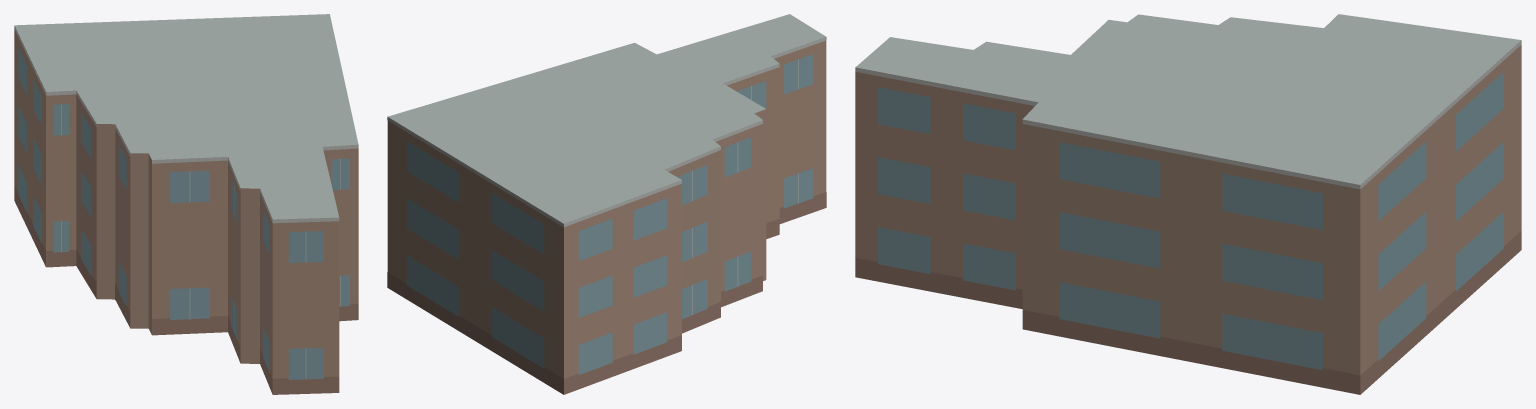
File: survey-upis-32683077.glb
3 renders of one model, left to right at view 1: azimuth 30°, elevation 25°; view 2: azimuth 150°, elevation 25°; view 3: azimuth 270°, elevation 25°, orthographic. The views are drawn at different scales.
Visible parts, largest first — view 1: survey-upis-32683077.tmp; view 2: survey-upis-32683077.tmp; view 3: survey-upis-32683077.tmp.
Boxes of the visible parts, x1,y1,x2,y2 form: survey-upis-32683077.tmp: (14, 14, 358, 394); survey-upis-32683077.tmp: (387, 14, 826, 394); survey-upis-32683077.tmp: (855, 14, 1521, 394).
Bounding box in the file's own units: 20.35 × 11.64 × 33.5.
